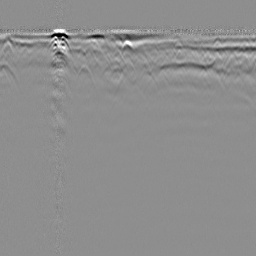cavity: (121, 38, 135, 52)
